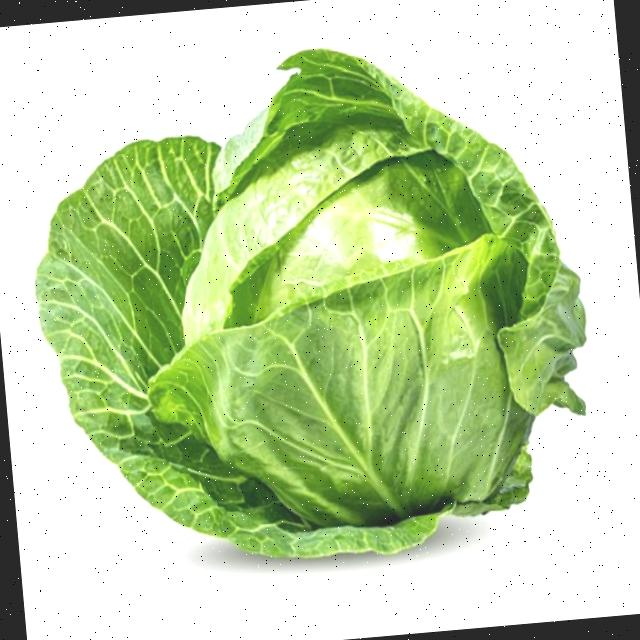cabbage: (4, 41, 609, 604)
